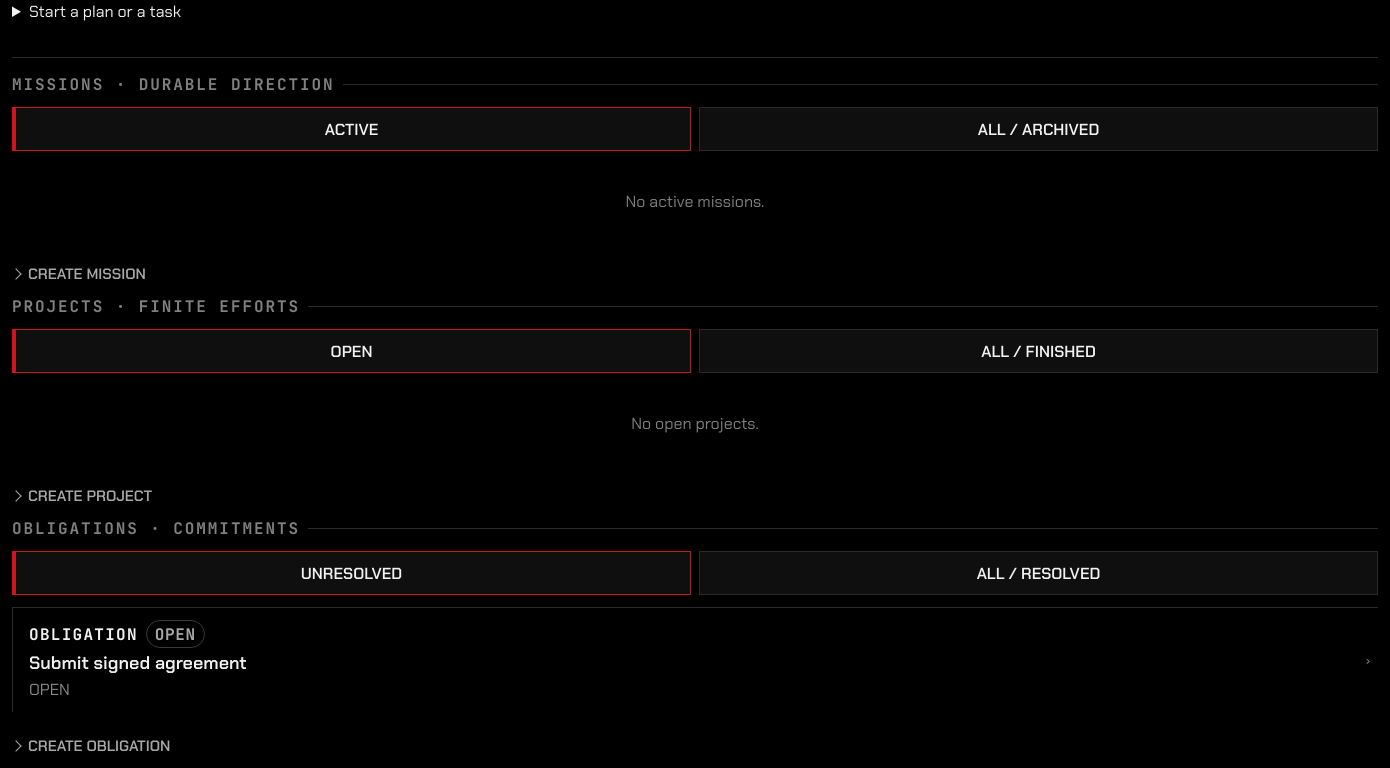
Test case: IntentScreen (real browser) › records satisfy through the existing command only after confirmation
(page scrolled)
Click the button "OBLIGATION OPEN Submit signed agreement OPEN ›".
click(83, 634)  # box x1=12 y1=607 x2=1378 y2=712
(page scrolled)
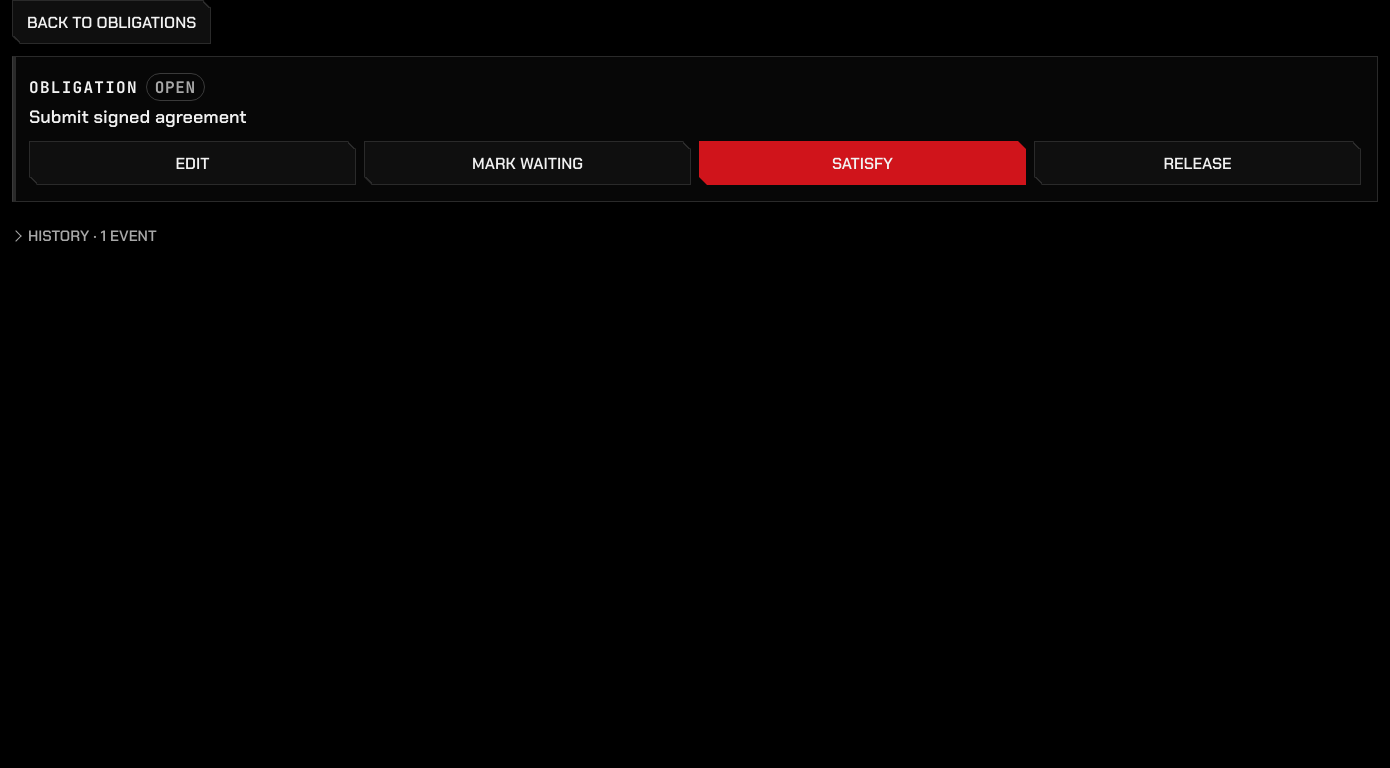
Click the button "SATISFY".
click(862, 163)  # box x1=699 y1=141 x2=1026 y2=185
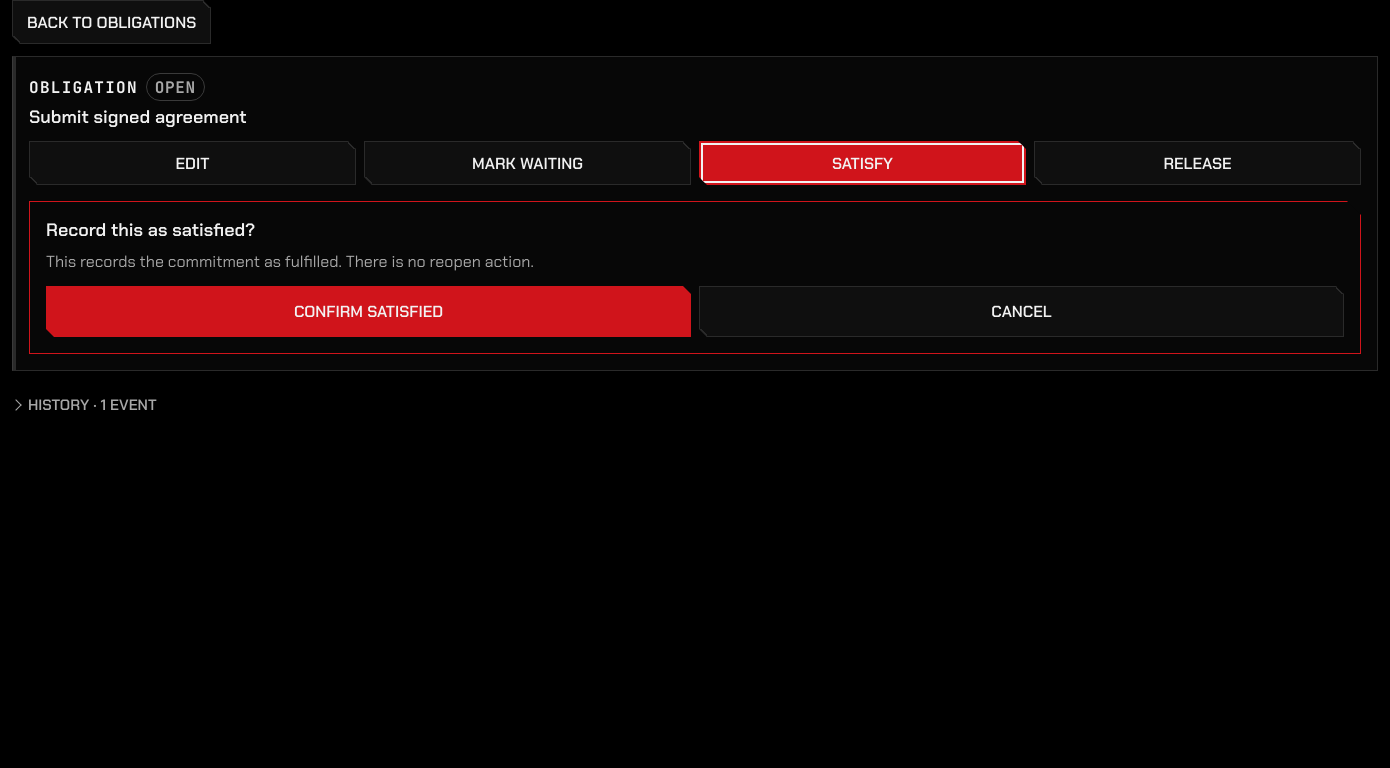
Expected: the text "Record this as satisfied?" is shown, x1=46 y1=218 x2=255 y2=242
Click the button "CONFIRM SATISFIED".
click(368, 312)  # box x1=46 y1=286 x2=691 y2=337
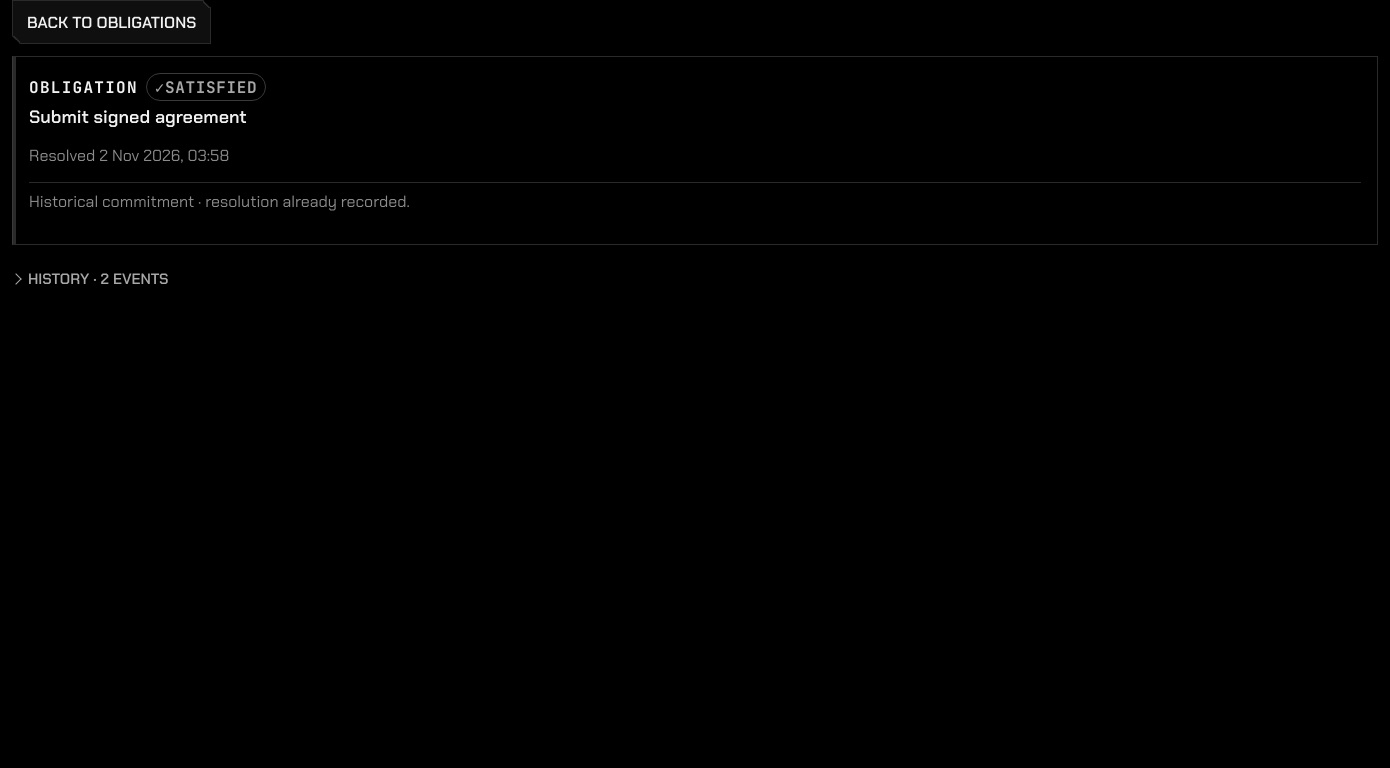
Expected: the text "SATISFIED" is shown, x1=146 y1=73 x2=266 y2=101
Expected: the text "Historical commitment · resolution already recorded." is shown, x1=29 y1=182 x2=1361 y2=212
